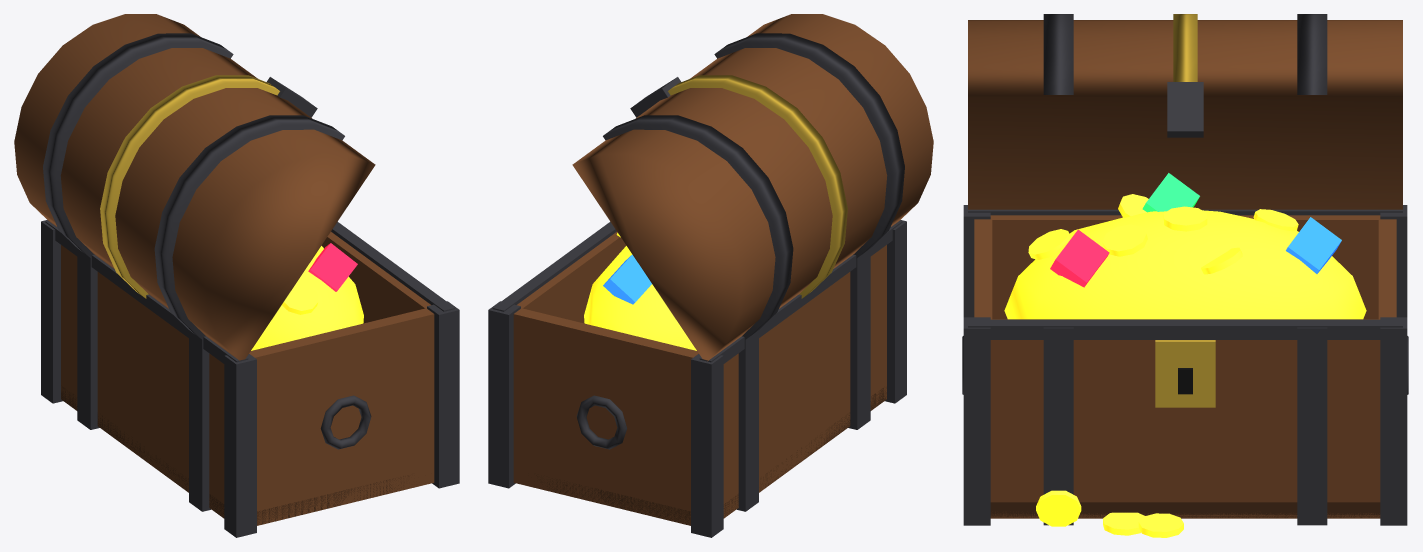
File: treasure-chest.glb
3 views of the same model, side by side, from view 1: azimuth 30°, elevation 25°; view 2: azimuth 150°, elevation 25°; view 3: azimuth 270°, elevation 25° (orthographic). The views are drawn at different scales.
Visible parts, largest first — view 1: Mesh_LidShell, Mesh_WallRight, Mesh_WallBack, Mesh_LidStrapL, Mesh_LidStrapR, Mesh_CornerBR, Mesh_LidStrapMid, Mesh_CornerFR, Mesh_GoldHeap, Mesh_WallFront, Mesh_StrapBackL, Mesh_StrapBackR (+8 smaller); view 2: Mesh_LidShell, Mesh_WallLeft, Mesh_WallBack, Mesh_LidStrapR, Mesh_LidStrapL, Mesh_CornerBL, Mesh_LidStrapMid, Mesh_CornerFL, Mesh_GoldHeap, Mesh_WallFront, Mesh_StrapBackL, Mesh_StrapBackR (+7 smaller); view 3: Mesh_LidShell, Mesh_WallFront, Mesh_GoldHeap, Mesh_WallBack, Mesh_LipFront, Mesh_StrapFrontL, Mesh_CornerFL, Mesh_CornerFR, Mesh_StrapFrontR, Mesh_Floor, Mesh_LockPlate, Mesh_LidStrapL (+20 smaller).
Boxes of the visible parts, box(x1,y1,x2,y2) form: Mesh_LidShell: box(14, 14, 375, 360); Mesh_WallRight: box(249, 308, 433, 525); Mesh_WallBack: box(61, 245, 224, 518); Mesh_LidStrapL: box(43, 33, 233, 257); Mesh_LidStrapR: box(154, 115, 344, 339); Mesh_CornerBR: box(224, 354, 256, 537); Mesh_LidStrapMid: box(100, 75, 279, 298); Mesh_CornerFR: box(427, 301, 459, 488); Mesh_GoldHeap: box(251, 246, 363, 350); Mesh_WallFront: box(321, 232, 434, 482); Mesh_StrapBackL: box(77, 248, 99, 429); Mesh_StrapBackR: box(189, 330, 210, 511); Mesh_LidShell: box(572, 14, 933, 361); Mesh_WallLeft: box(513, 308, 698, 525); Mesh_WallBack: box(723, 245, 886, 518); Mesh_LidStrapR: box(714, 33, 904, 258); Mesh_LidStrapL: box(603, 115, 793, 339); Mesh_CornerBL: box(691, 354, 723, 537); Mesh_LidStrapMid: box(668, 75, 847, 298); Mesh_CornerFL: box(488, 301, 520, 488); Mesh_GoldHeap: box(584, 246, 696, 350); Mesh_WallFront: box(513, 232, 626, 471); Mesh_StrapBackL: box(737, 330, 758, 511); Mesh_StrapBackR: box(848, 248, 870, 429); Mesh_LidShell: box(968, 20, 1402, 209); Mesh_WallFront: box(990, 319, 1380, 518); Mesh_GoldHeap: box(1004, 210, 1366, 319); Mesh_WallBack: box(974, 215, 1395, 319); Mesh_LipFront: box(968, 319, 1402, 339); Mesh_StrapFrontL: box(1297, 327, 1327, 525); Mesh_CornerFL: box(1380, 317, 1407, 525); Mesh_CornerFR: box(963, 317, 990, 525); Mesh_StrapFrontR: box(1043, 327, 1073, 525); Mesh_Floor: box(990, 502, 1380, 517); Mesh_LockPlate: box(1155, 340, 1215, 407); Mesh_LidStrapL: box(1297, 14, 1327, 94).
Bounding box in the file's own units: 1.27 × 1.52 × 1.48.
